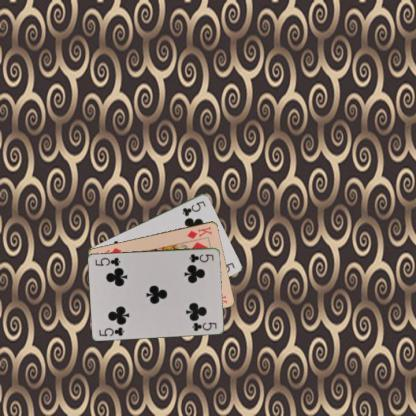5c: (180, 198, 207, 217), (96, 324, 126, 337), (186, 252, 216, 263)
Kd: (184, 223, 214, 240)
